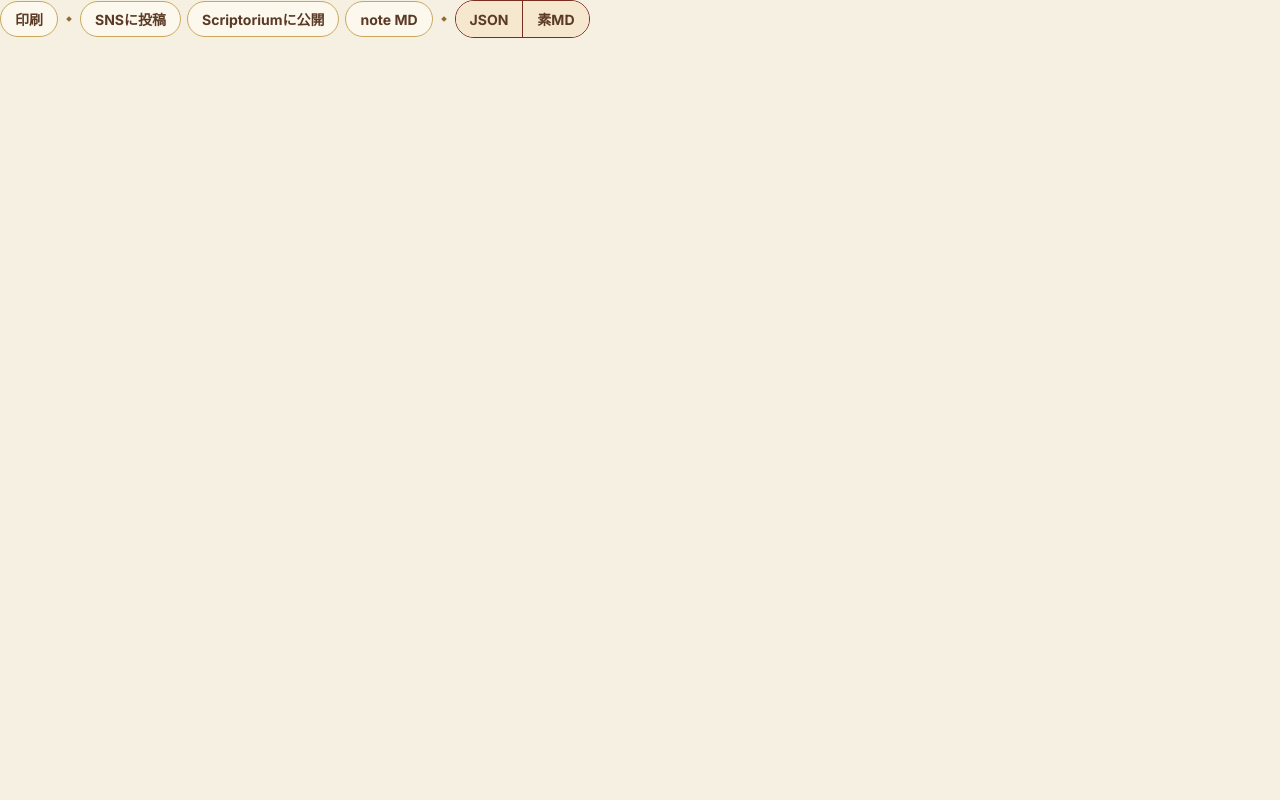
it: ExportActionBar — PC幅（従来のピル群） › JSONボタン押下で写真あり/なし選択ダイアログが開く
Click the button "JSON".
click(489, 19)  # box 456,1 -> 522,37
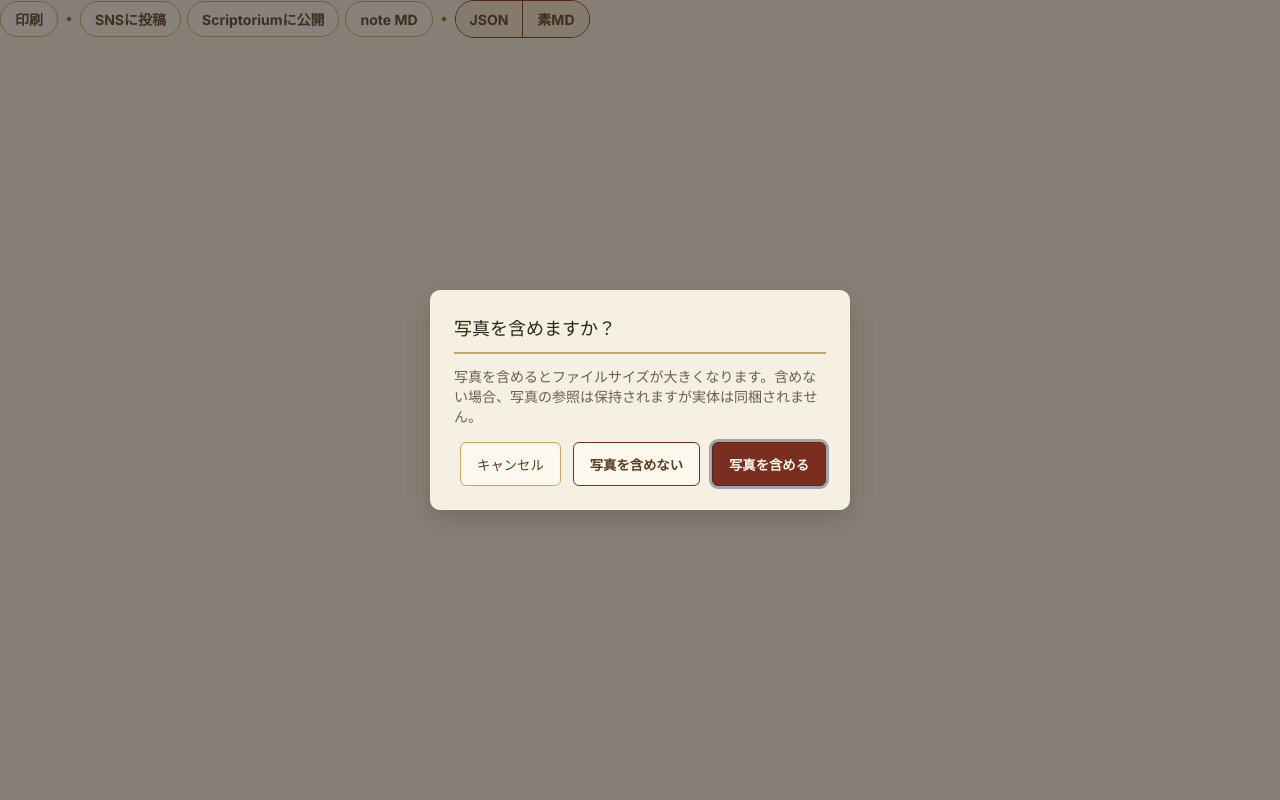
Check: the dialog is shown, box 430,290 -> 850,510
Check: the heading "写真を含めますか？" is shown, box 454,314 -> 826,354
